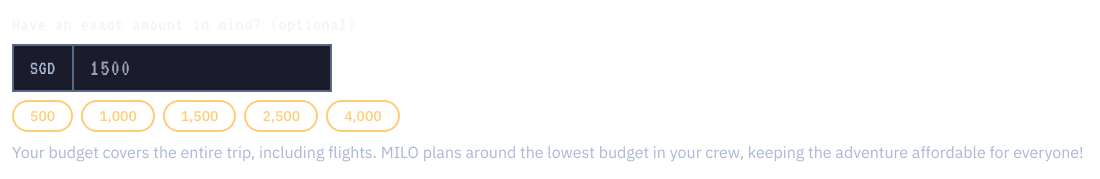
Test case: BudgetAmountField › keeps digits only, so pasted text or symbols cannot break the amount
The image size is (1100, 179).
Type "SGD 2,400.50" into the field labelled "Have an exact amount in mind? (optional)" at x=202, y=68, box [74,46,330,90]
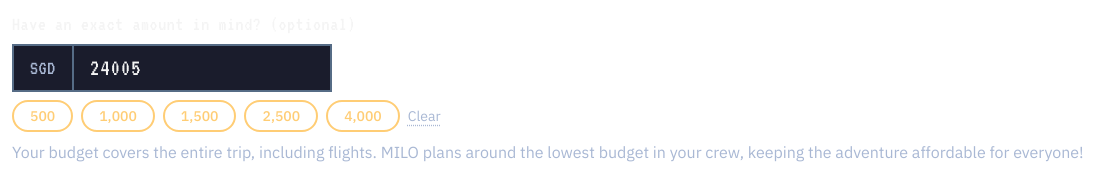
Now the field labelled "Have an exact amount in mind? (optional)" holds "24005", box [74,46,330,90]
